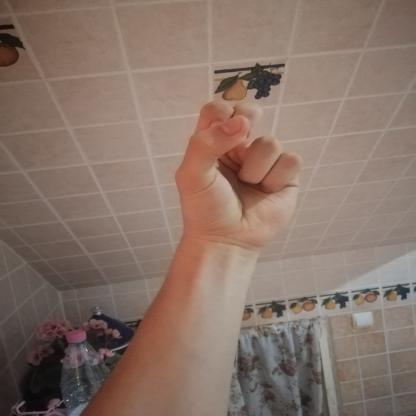QAAF: (152, 88, 326, 258)
